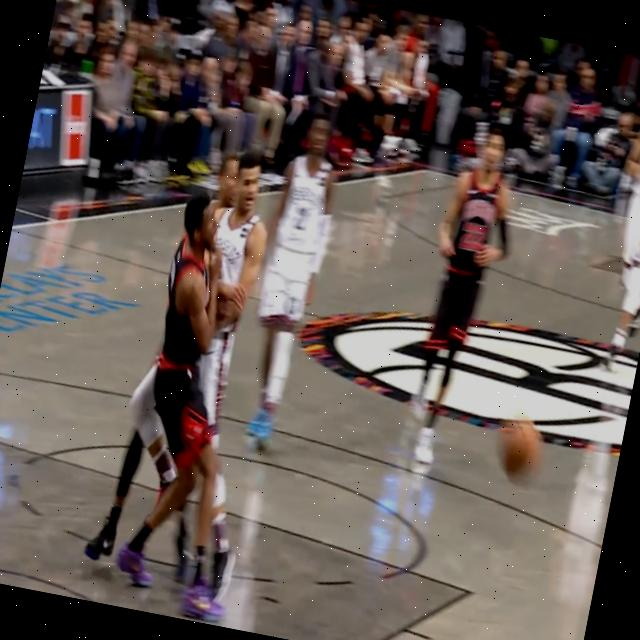foul: (62, 118, 292, 622)
no foul: (349, 106, 541, 498)
